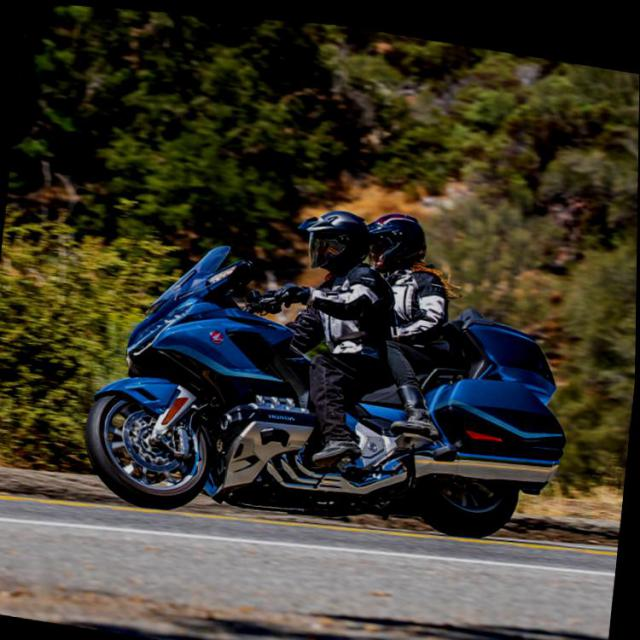Gold Wing: (78, 221, 581, 567)
